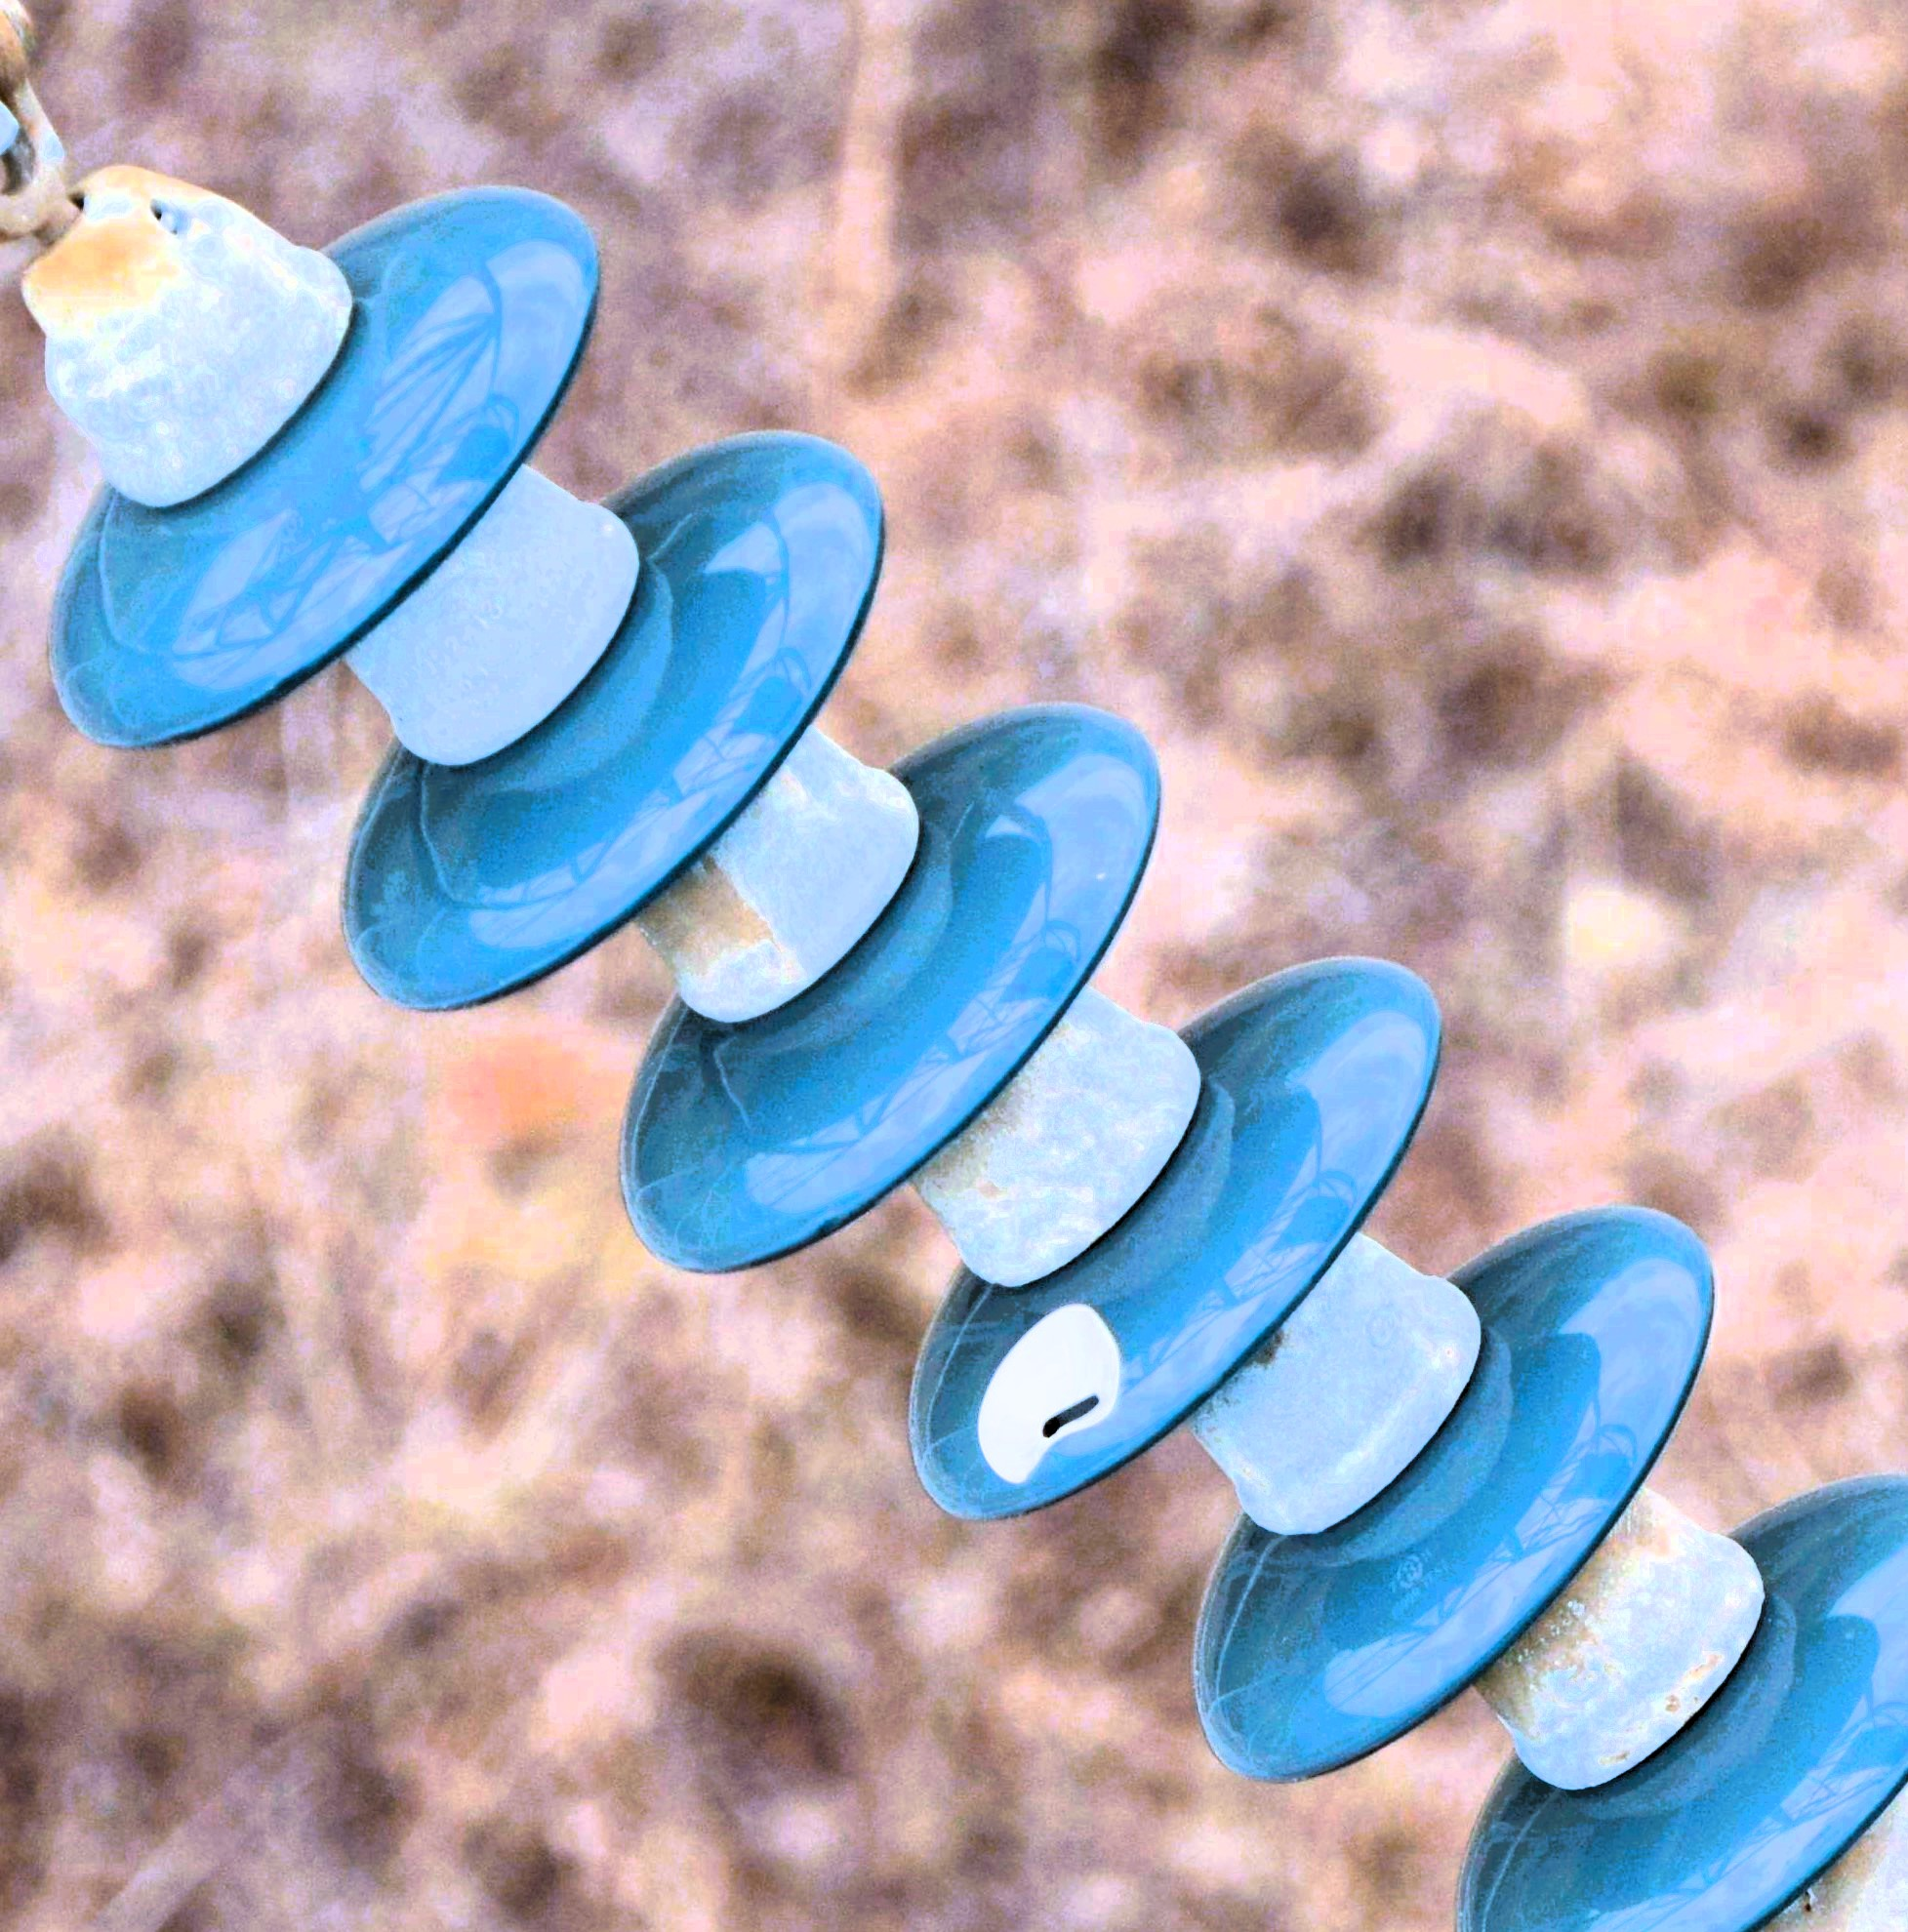insulator breakage: (884, 947, 1454, 1553)
